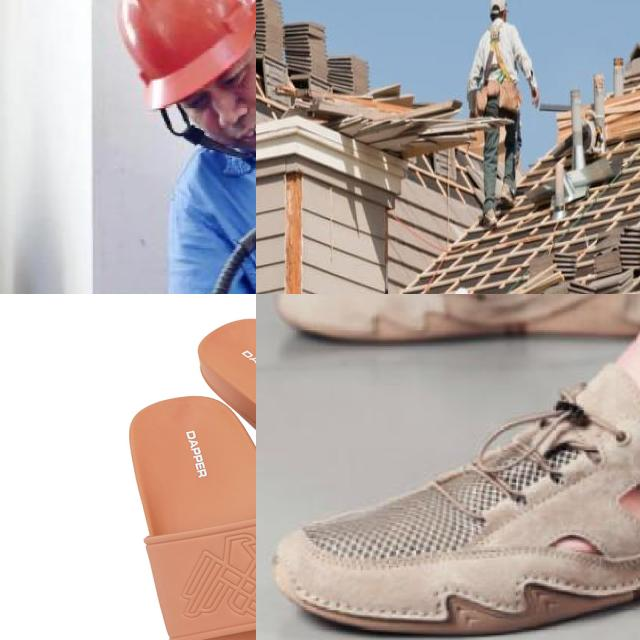Harness: (478, 22, 518, 124)
No_Glasses: (181, 54, 256, 118)
Sandals: (258, 335, 640, 635), (120, 310, 256, 640)
face_nomask: (199, 75, 256, 154)
head_helmet: (118, 0, 256, 109)
